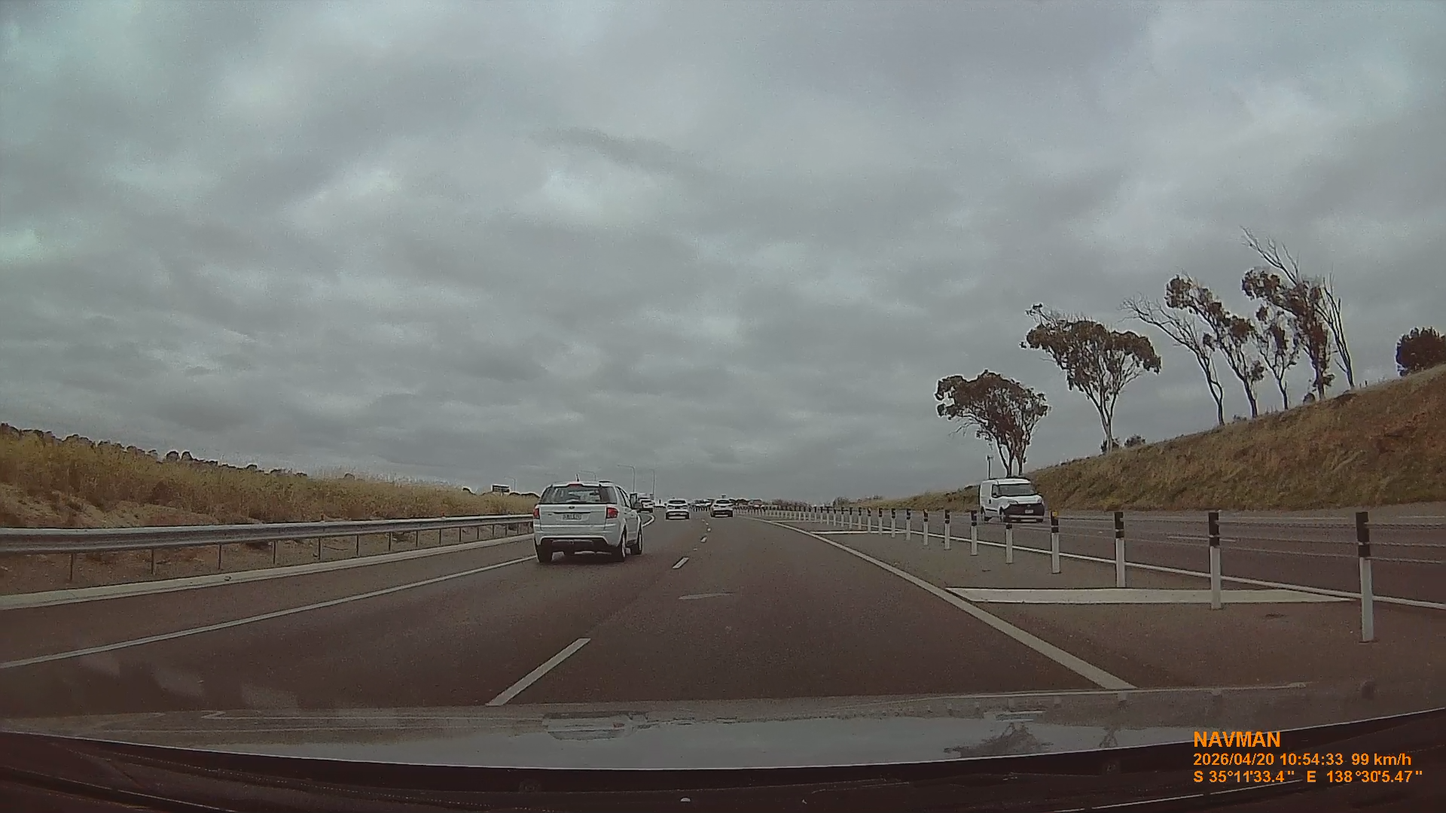road barriers: (789, 506, 1441, 638), (2, 516, 522, 589)
